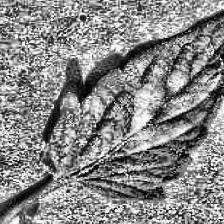leaf mold: (39, 2, 224, 197)
